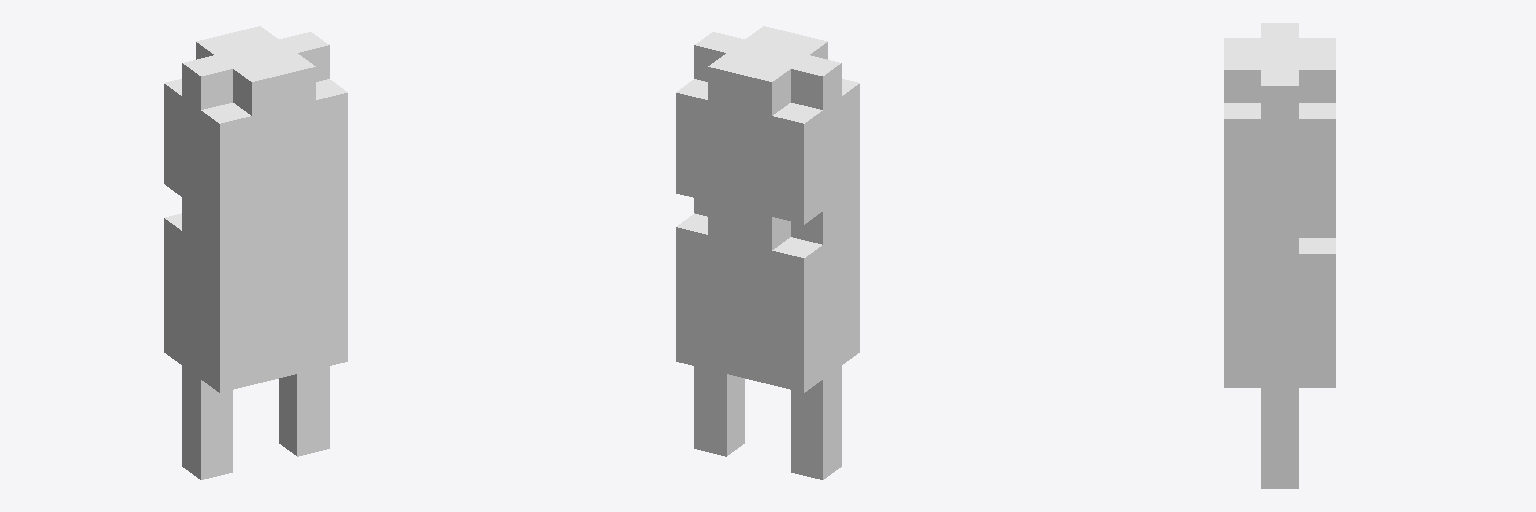
The model's file is Guy4.obj.
The picture shows the model from 3 angles: view 1: azimuth 30°, elevation 25°; view 2: azimuth 150°, elevation 25°; view 3: azimuth 270°, elevation 25°; orthographic projection.
Visible parts, largest first — view 1: object 1; view 2: object 1; view 3: object 1.
Boxes of the visible parts, <box> form: object 1: <box>164,26,347,479</box>; object 1: <box>676,26,859,479</box>; object 1: <box>1224,23,1335,488</box>.
Size of the model in its own units: 0.4 by 1.2 by 0.3.